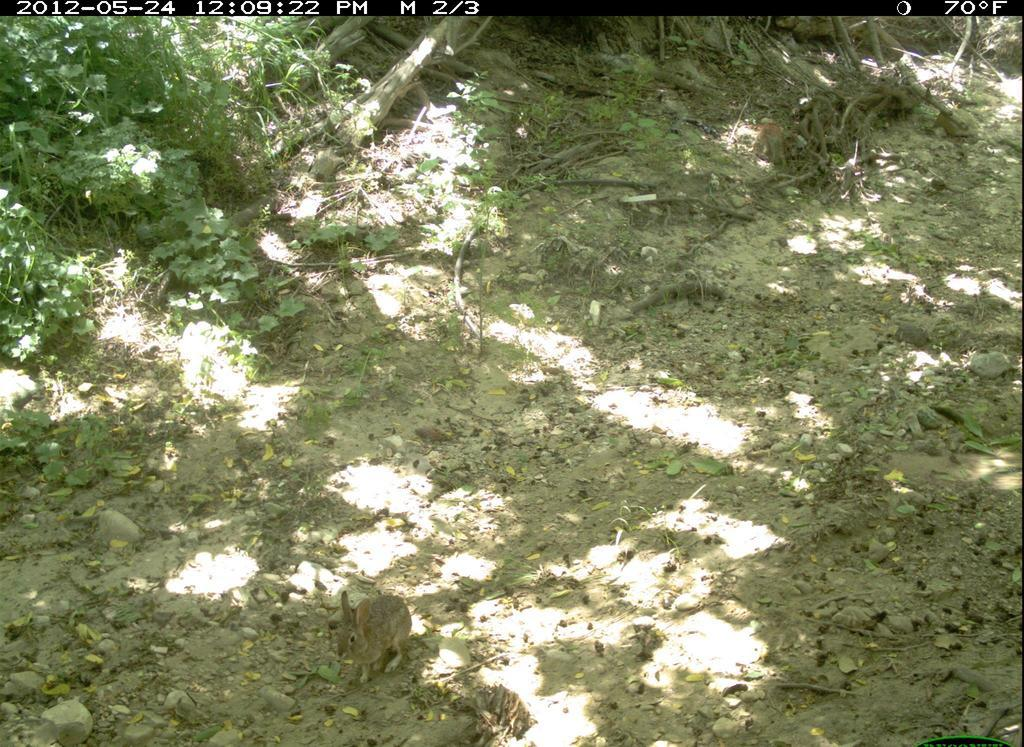rabbit: (325, 583, 427, 686)
